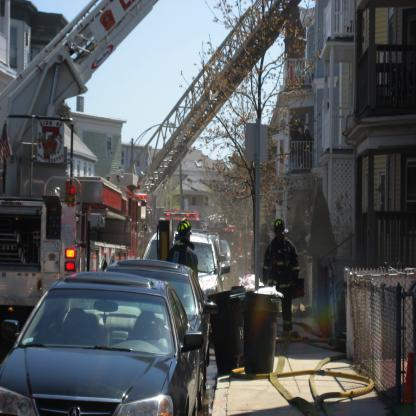Car: (0, 226, 237, 416)
